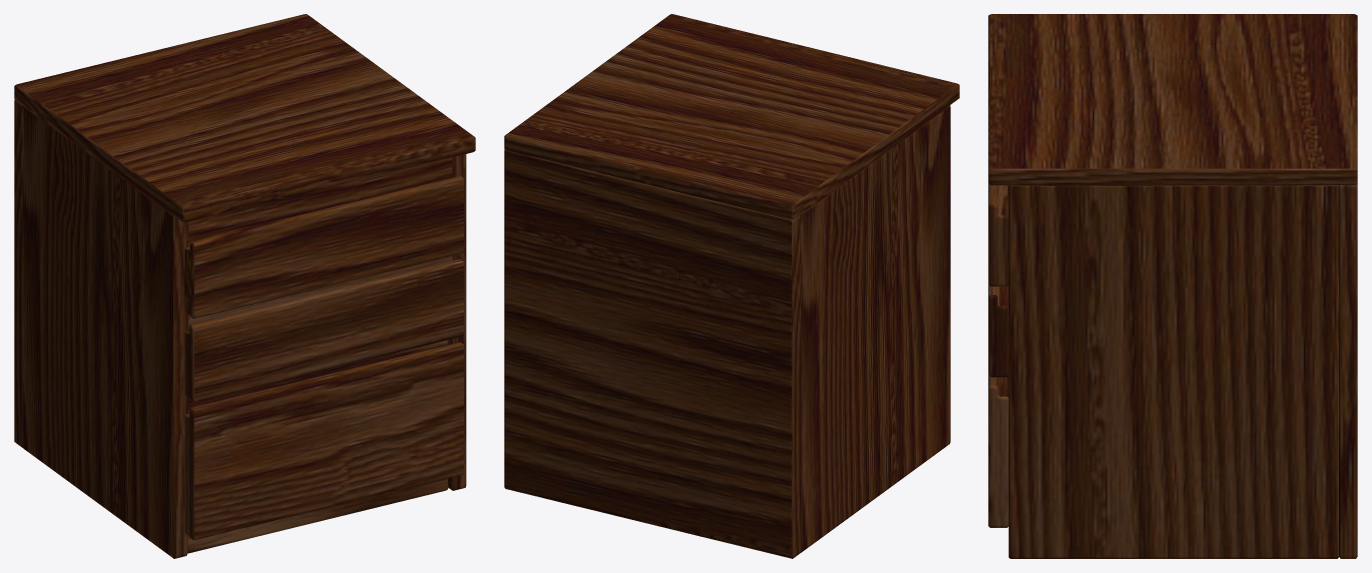
The model's file is dresser.glb.
3 views of the same model, side by side, from view 1: azimuth 30°, elevation 25°; view 2: azimuth 150°, elevation 25°; view 3: azimuth 270°, elevation 25° (orthographic). The views are drawn at different scales.
Parts seen in each view (by area): view 1: structure_003_mesh_n3d, structure_001_mesh_n3d, drawer_011_mesh_n3d, drawer_006_mesh_n3d, drawer_001_mesh_n3d, structure_007_mesh_n3d, structure_006_mesh_n3d, structure_004_mesh_n3d, structure_008_mesh_n3d, structure_002_mesh_n3d, structure_005_mesh_n3d; view 2: structure_004_mesh_n3d, structure_001_mesh_n3d, structure_003_mesh_n3d; view 3: structure_008_mesh_n3d, structure_001_mesh_n3d, structure_004_mesh_n3d, drawer_011_mesh_n3d, drawer_001_mesh_n3d, drawer_006_mesh_n3d.
Boxes of the visible parts, x1,y1,x2,y2 form: structure_003_mesh_n3d: (22, 106, 187, 558); structure_001_mesh_n3d: (14, 14, 475, 222); drawer_011_mesh_n3d: (184, 342, 464, 540); drawer_006_mesh_n3d: (184, 259, 464, 401); drawer_001_mesh_n3d: (184, 175, 464, 318); structure_007_mesh_n3d: (187, 157, 452, 247); structure_006_mesh_n3d: (187, 478, 448, 553); structure_004_mesh_n3d: (14, 100, 22, 447); structure_008_mesh_n3d: (448, 154, 466, 490); structure_002_mesh_n3d: (187, 256, 452, 330); structure_005_mesh_n3d: (187, 340, 448, 413); structure_004_mesh_n3d: (504, 149, 800, 558); structure_001_mesh_n3d: (504, 14, 959, 219); structure_003_mesh_n3d: (800, 105, 950, 552); structure_008_mesh_n3d: (1008, 185, 1338, 558); structure_001_mesh_n3d: (988, 14, 1357, 185); structure_004_mesh_n3d: (1339, 184, 1357, 558); drawer_011_mesh_n3d: (988, 376, 1008, 527); drawer_001_mesh_n3d: (988, 184, 1008, 286); drawer_006_mesh_n3d: (988, 285, 1008, 377).
Size of the model in its own units: 0.127 by 0.1482 by 0.127.
1 material, 1 textured.
